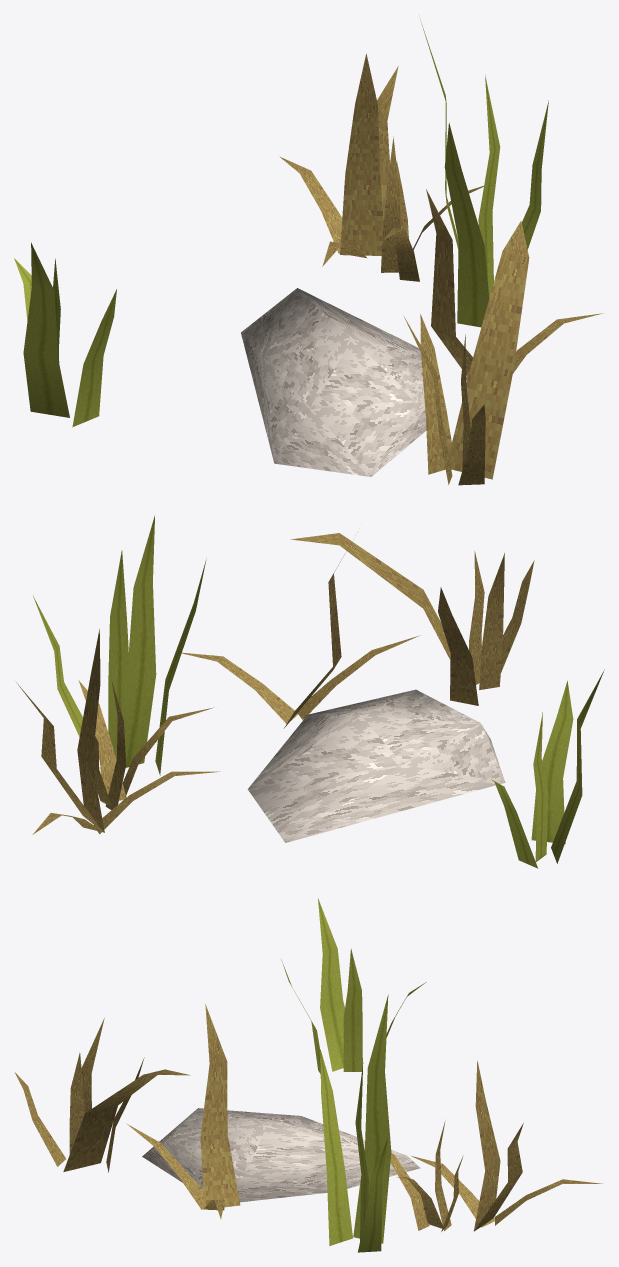
The model's file is grass6.obj.
The picture shows the model from 3 angles, top to bottom: view 1: azimuth 30°, elevation 25°; view 2: azimuth 150°, elevation 25°; view 3: azimuth 270°, elevation 25°; orthographic projection. The views are drawn at different scales.
Visible parts, largest first — view 1: Plane.009_Plane.066, Icosphere, Plane.005_Plane.082; view 2: Icosphere, Plane.009_Plane.066, Plane.005_Plane.082; view 3: Plane.009_Plane.066, Plane.005_Plane.082, Icosphere.
Boxes of the visible parts, x1=… form: Plane.009_Plane.066: x1=279, y1=53, x2=604, y2=485; Icosphere: x1=241, y1=288, x2=426, y2=476; Plane.005_Plane.082: x1=14, y1=20, x2=548, y2=427; Icosphere: x1=247, y1=689, x2=505, y2=842; Plane.009_Plane.066: x1=16, y1=533, x2=534, y2=834; Plane.005_Plane.082: x1=33, y1=515, x2=604, y2=868; Plane.009_Plane.066: x1=14, y1=1004, x2=602, y2=1231; Plane.005_Plane.082: x1=281, y1=898, x2=426, y2=1252; Icosphere: x1=142, y1=1108, x2=420, y2=1202.
Size of the model in its own units: 3.45 by 1.78 by 3.92.
Materials: 3 (3 with a texture image).
